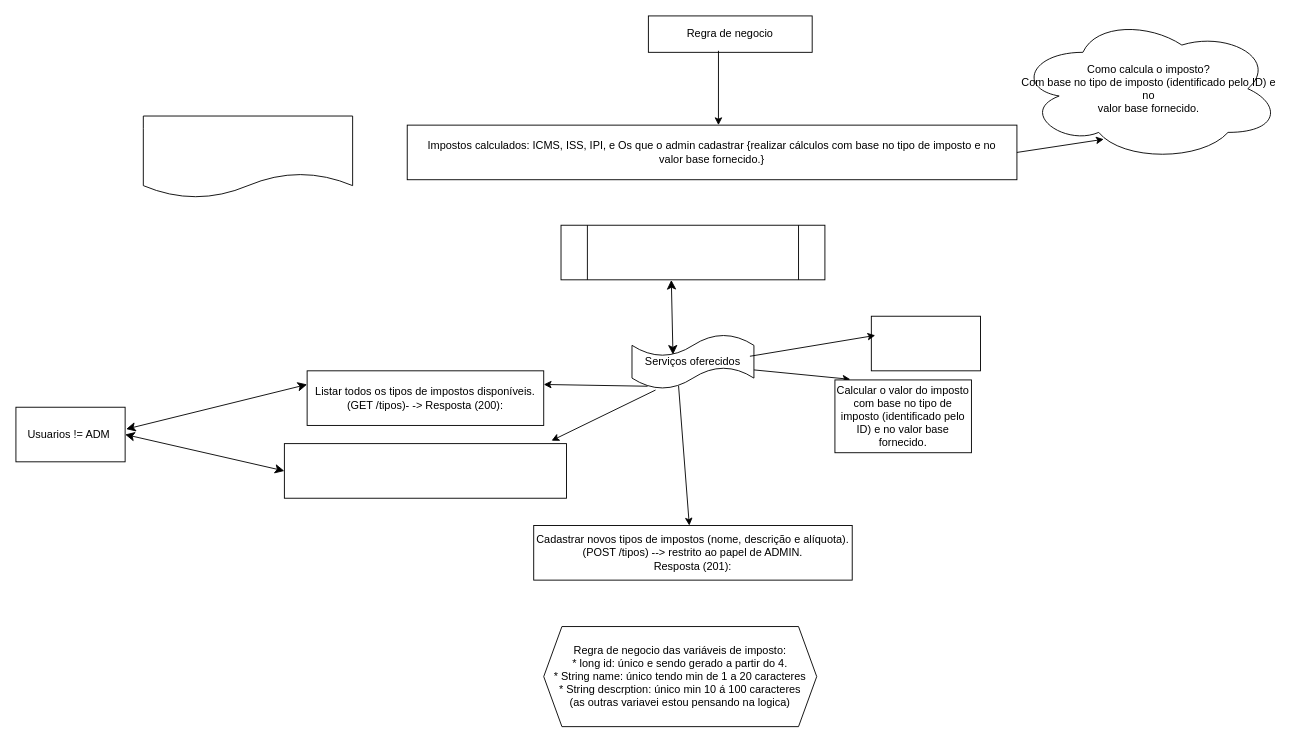
Some shapes in this 1297 by 743 pixel diagram are drawn without their labels. The centre of each missing label's shape, as x and y in pixels:
Excluir um tipo de imposto pelo ID.: pixel 925 343
Obter detalhes de um tipo de imposto específico pelo ID.: pixel 424 470
Regra de Segurança: Apenas usuários autenticados podem acessar os endpoints.: pixel 247 156
Usuarios == ADM podem fazer e ver tudo!: pixel 692 252
